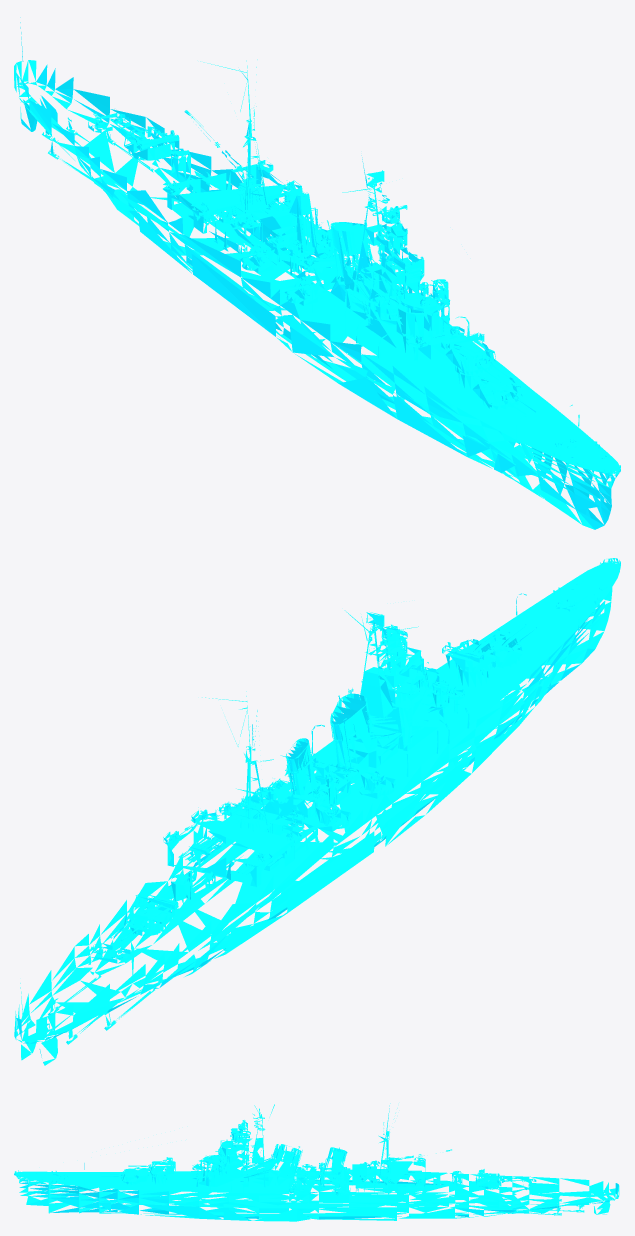
The model's file is Aoba.glb.
3 views of the same model, one above another, from view 1: azimuth 30°, elevation 25°; view 2: azimuth 150°, elevation 25°; view 3: azimuth 270°, elevation 25° (orthographic). The views are drawn at different scales.
Size of the model in its own units: 1.46 by 2.56 by 12.37.
